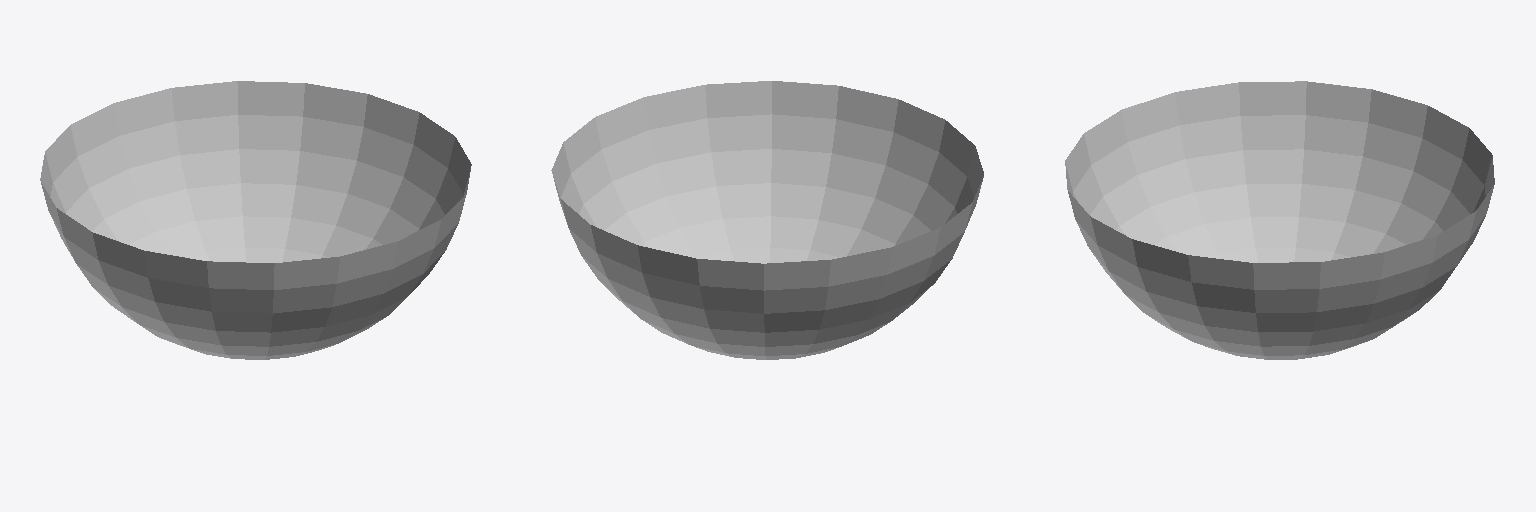
File: dome2.obj
3 views of the same model, side by side, from view 1: azimuth 30°, elevation 25°; view 2: azimuth 150°, elevation 25°; view 3: azimuth 270°, elevation 25° (orthographic).
Visible parts, largest first — view 1: Flat_earth.001; view 2: Flat_earth.001; view 3: Flat_earth.001.
Boxes of the visible parts, x1,y1,x2,y2 form: Flat_earth.001: [40, 81, 471, 359]; Flat_earth.001: [551, 81, 983, 359]; Flat_earth.001: [1065, 81, 1494, 359].
Size of the model in its own units: 36.52 by 15.71 by 36.52.